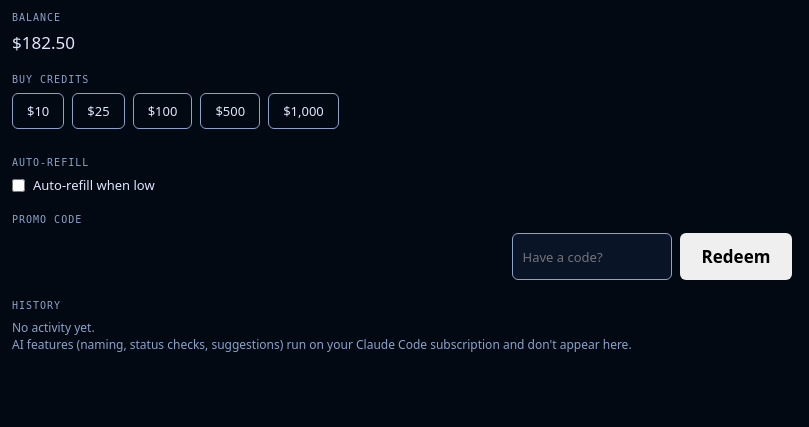
Test: auto-refill block › shows a card-setup-specific error when the server refuses the setup checkout
Click the checkbox labelled "Auto-refill when low" at (18, 185), box [12, 178, 25, 192]
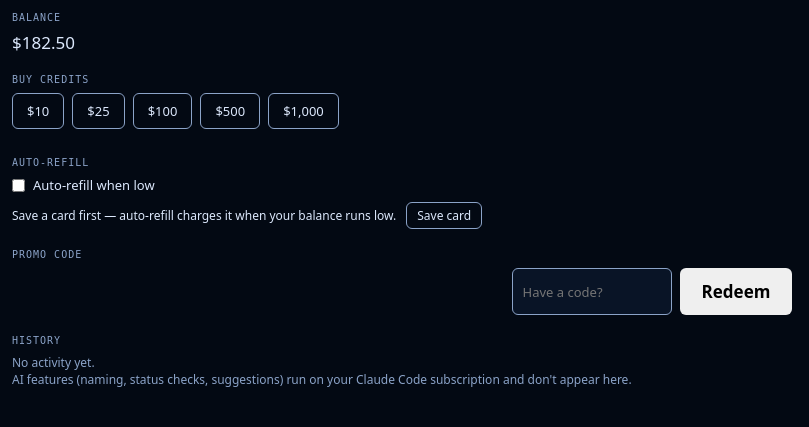
Click the button "Save card" at (444, 216), box [406, 202, 482, 229]
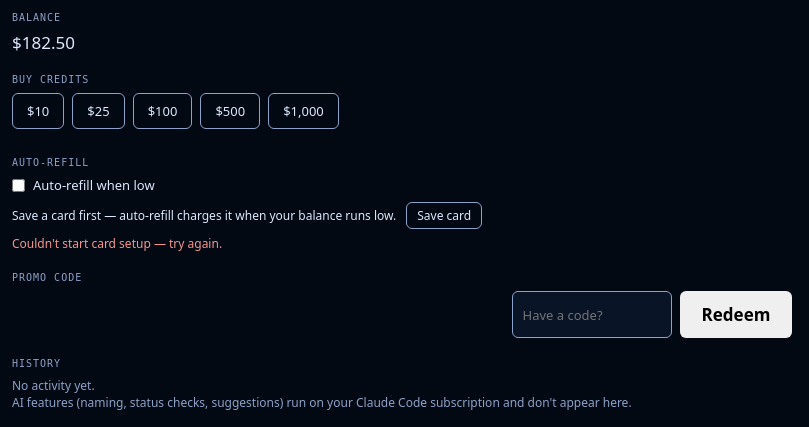
Expected: the text "Couldn't start card setup — try again." is shown, [12, 235, 222, 252]
